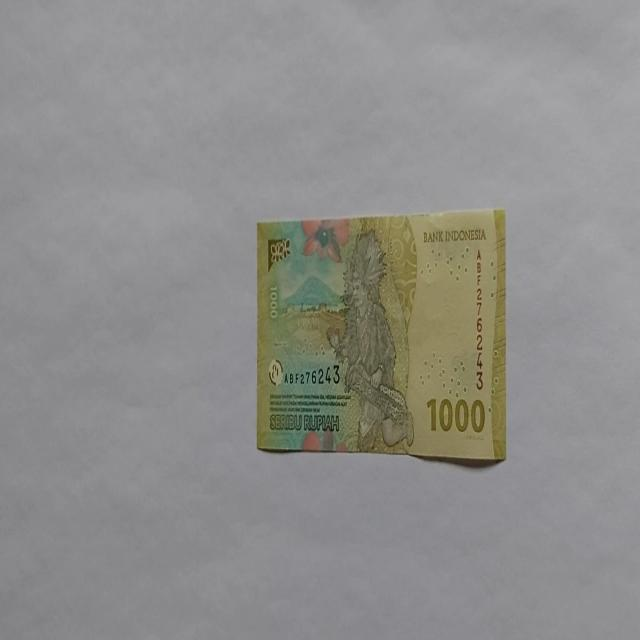seribu rupiah kertas: (256, 207, 507, 464)
